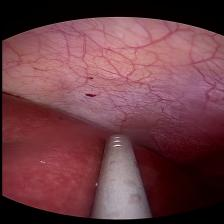Irrigator: (94, 133, 136, 162)
